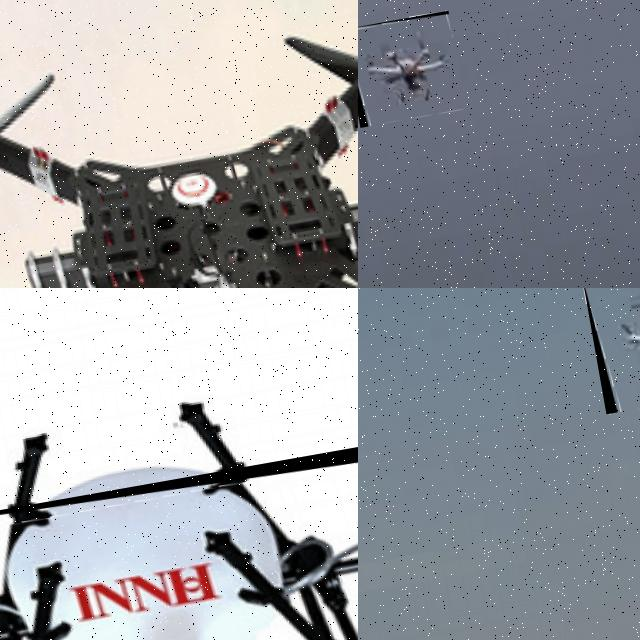0: (358, 10, 465, 127), (581, 288, 640, 414)
drone: (0, 0, 358, 288), (0, 425, 358, 640)
